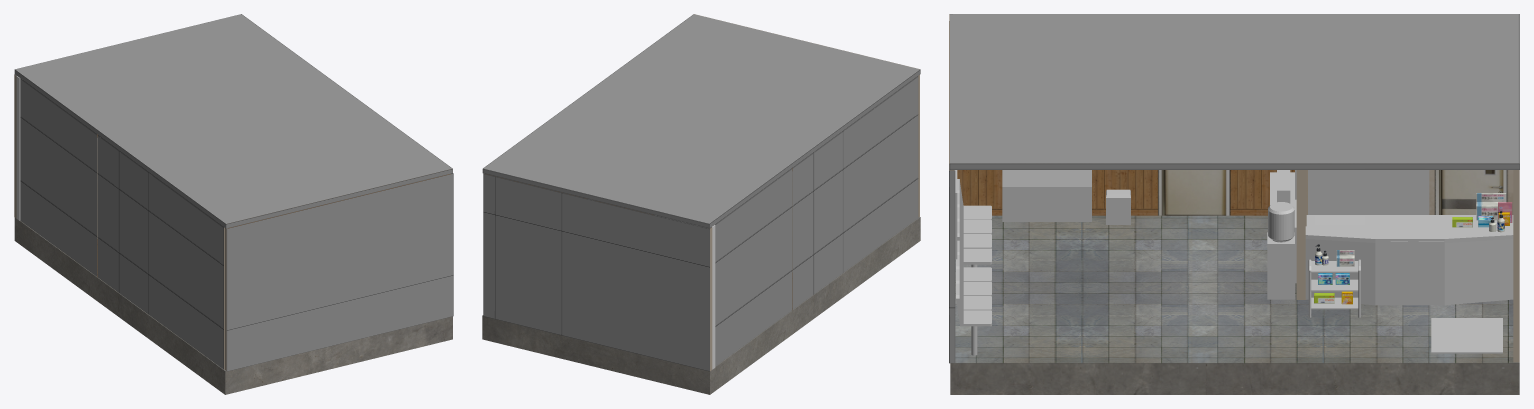
File: animal clinic02.fbx
3 views of the same model, side by side, from view 1: azimuth 30°, elevation 25°; view 2: azimuth 150°, elevation 25°; view 3: azimuth 270°, elevation 25° (orthographic). The views are drawn at different scales.
Parts seen in each view (by area): view 1: Cube.122, Cube.109, Cube.108, Cube.096, Cube.121, Cube.110; view 2: Cube.122, Cube.110, Cube.108, Cube.096, Cube.121; view 3: Cube.122, Cube.096, Cube.118, Cube.108, Cube.099, Cube.097, Cube.100, Cube.045, Cube.120, Cube.104, Cube.109, Cube.110 (+12 smaller).
Part boxes in pixels (x1,y1,x2,y2): Cube.122: (14, 14, 452, 228); Cube.109: (224, 173, 453, 371); Cube.108: (20, 78, 227, 369); Cube.096: (14, 218, 452, 394); Cube.121: (16, 76, 20, 220); Cube.110: (14, 74, 16, 218); Cube.122: (482, 14, 920, 228); Cube.110: (483, 173, 712, 371); Cube.108: (708, 76, 918, 366); Cube.096: (482, 217, 920, 394); Cube.121: (655, 215, 715, 369); Cube.122: (949, 14, 1519, 169); Cube.096: (950, 215, 1519, 394); Cube.118: (1305, 239, 1513, 305); Cube.108: (957, 170, 1294, 215); Cube.099: (1308, 170, 1429, 214); Cube.097: (1002, 170, 1091, 221); Cube.100: (1296, 170, 1513, 299); Cube.045: (1305, 215, 1513, 242); Cube.120: (1431, 318, 1502, 353); Cube.104: (1267, 232, 1294, 299); Cube.109: (949, 21, 955, 363); Cube.110: (1513, 170, 1519, 362).
Size of the model in its own units: 272 by 195 by 437.
